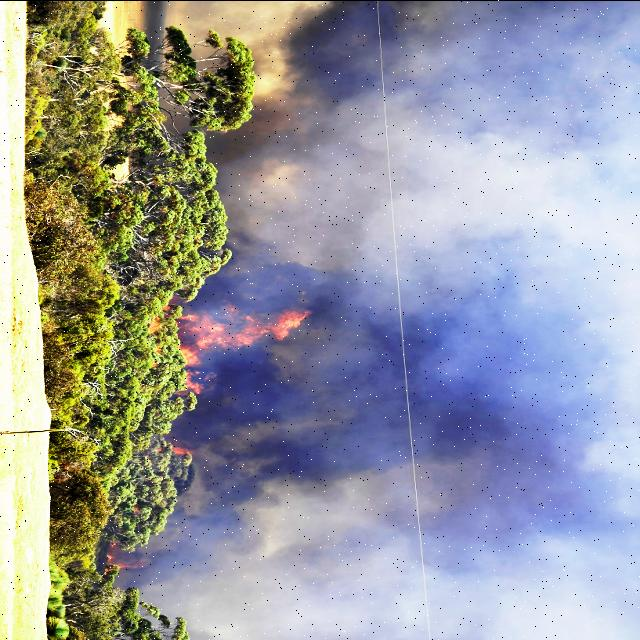api: (171, 311, 298, 349)
asap: (298, 11, 640, 637), (184, 357, 294, 631), (223, 72, 309, 308), (145, 3, 302, 57)
